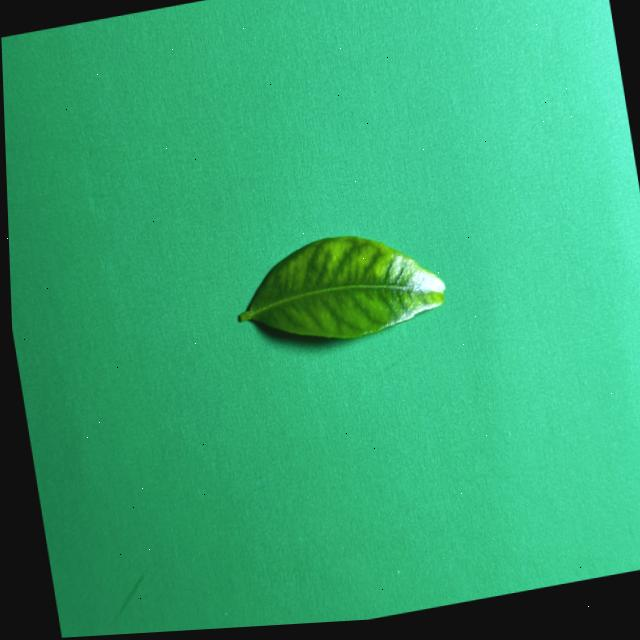greening: (238, 236, 444, 338)
